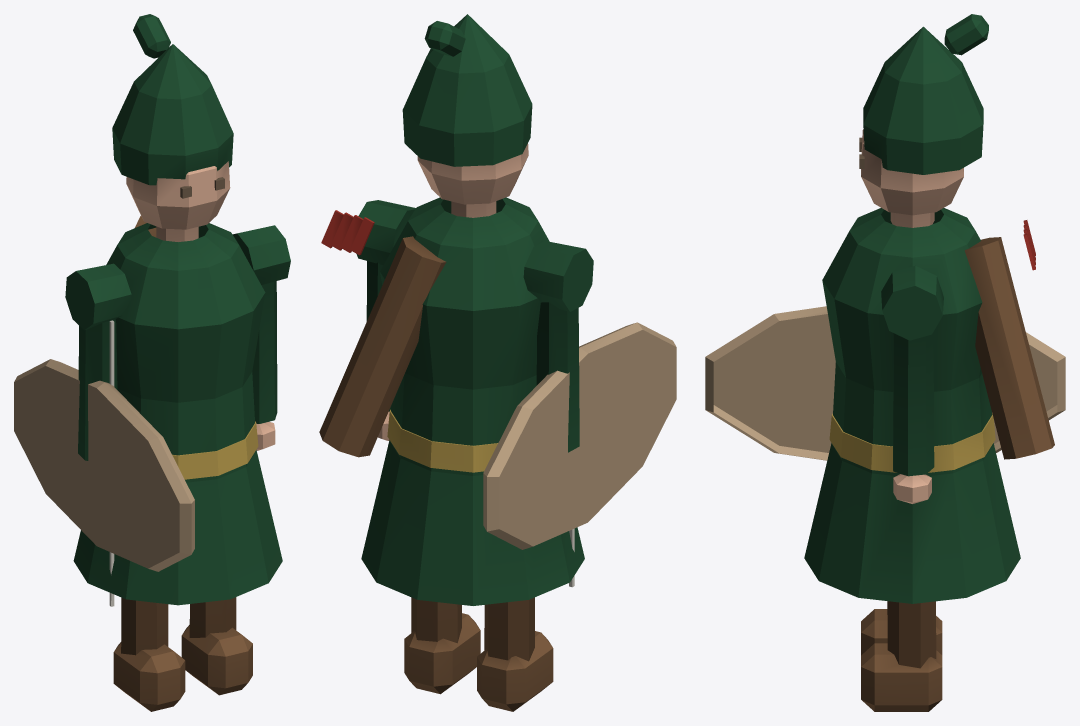
Rendered from unit_luchnik.glb.
3 renders of one model, left to right at view 1: azimuth 30°, elevation 25°; view 2: azimuth 150°, elevation 25°; view 3: azimuth 270°, elevation 25°, orthographic. The views are drawn at different scales.
Visible parts, largest first — view 1: unit_luchnik; view 2: unit_luchnik; view 3: unit_luchnik.
Boxes of the visible parts, box(x1,y1,x2,y2) form: unit_luchnik: box(14, 14, 290, 711); unit_luchnik: box(319, 14, 676, 711); unit_luchnik: box(705, 14, 1065, 711).
Bounding box in the file's own units: 0.26 × 0.822 × 0.3994.
